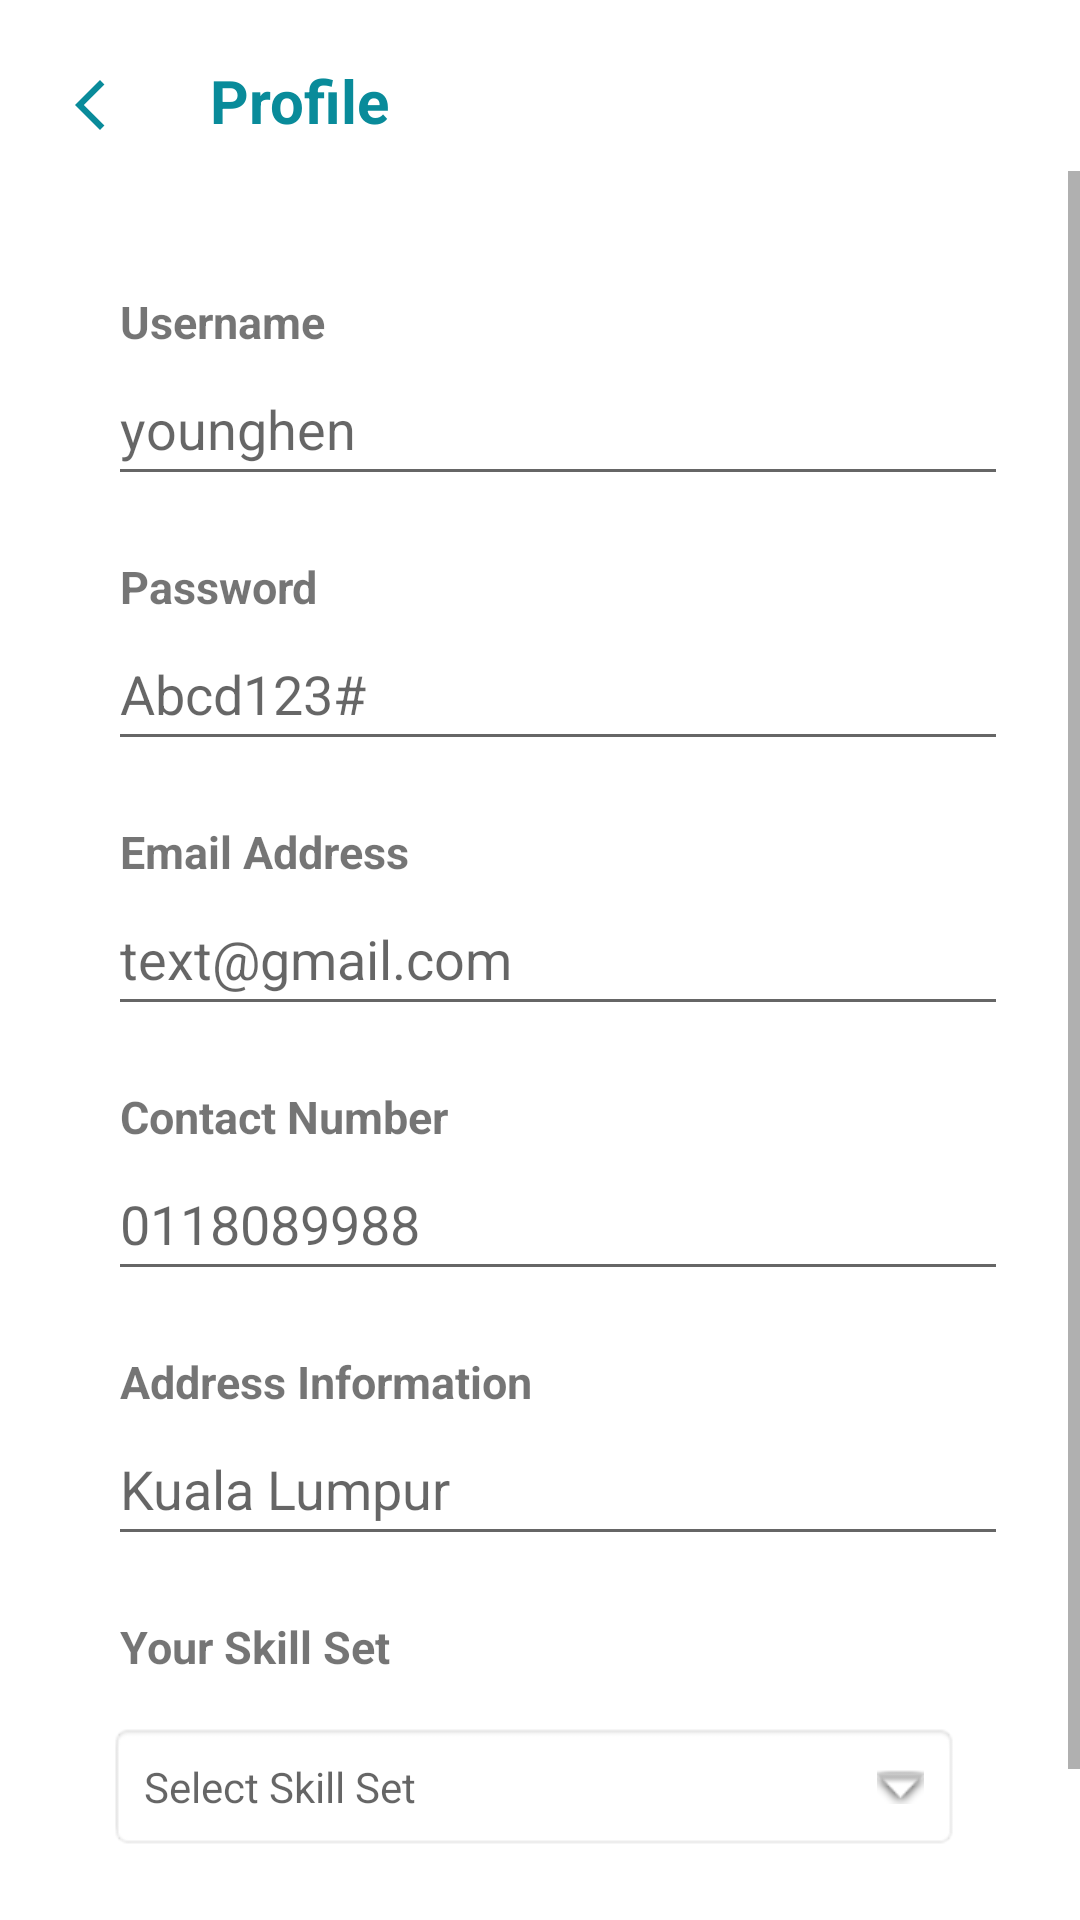

Icon bounding boxes for this 1080×1920 phone screenshot, format bbox(x1, y1, x2, y2):
arrow back: bbox(75, 80, 105, 130)
